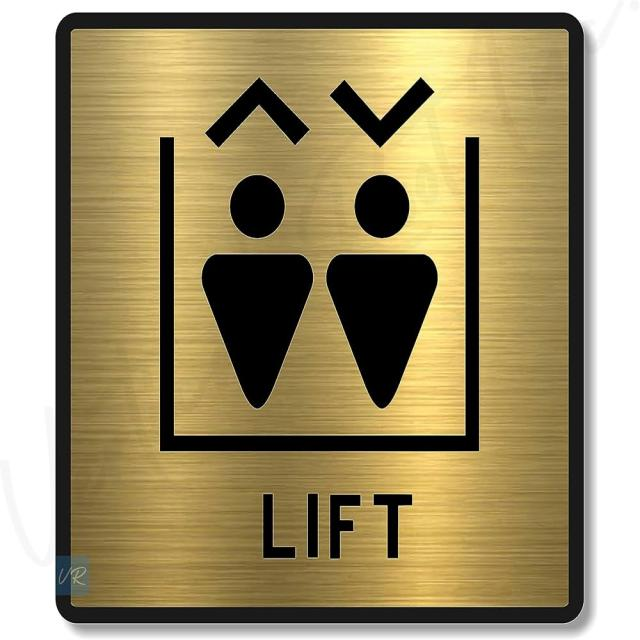lift_icon: (135, 57, 496, 468)
